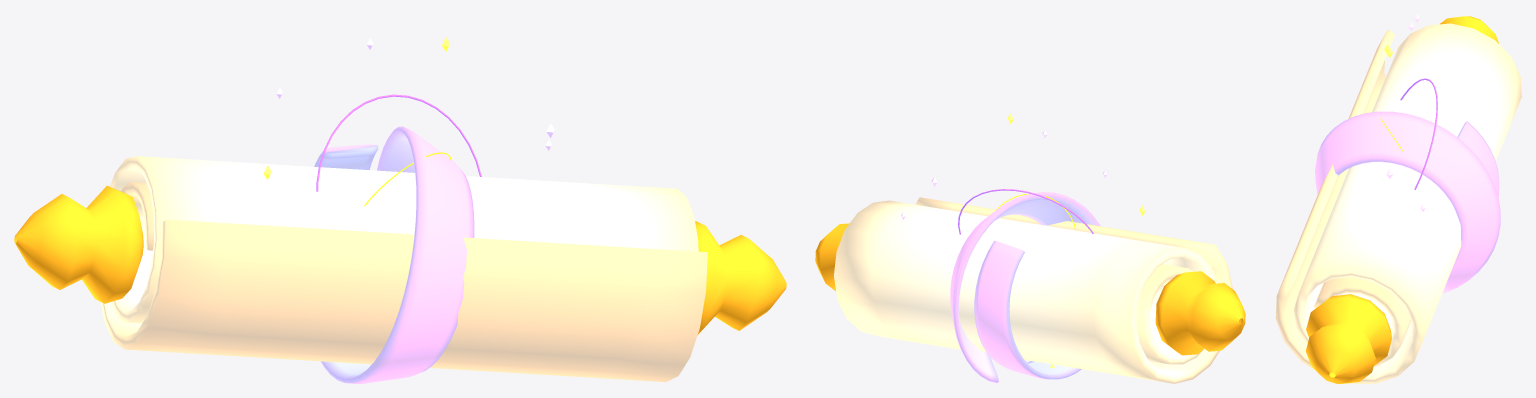
Rendered from papyrus_splash_morph.glb.
3 renders of one model, left to right at view 1: azimuth 30°, elevation 25°; view 2: azimuth 150°, elevation 25°; view 3: azimuth 270°, elevation 25°, orthographic. The views are drawn at different scales.
Parts seen in each view (by area): view 1: Papyrus_Parchment_Scroll, Cosmic_P_Ribbon, Gold_Roller_Left, Gold_Roller_Right, AI_Neural_Ring_Outer; view 2: Papyrus_Parchment_Scroll, Cosmic_P_Ribbon, Gold_Roller_Left, Gold_Roller_Right, AI_Neural_Ring_Outer; view 3: Papyrus_Parchment_Scroll, Cosmic_P_Ribbon, Gold_Roller_Right, Gold_Roller_Left, AI_Neural_Ring_Outer.
Part boxes in pixels (x1,y1,x2,y2): Papyrus_Parchment_Scroll: (100,156,707,382); Cosmic_P_Ribbon: (314,126,474,383); Gold_Roller_Left: (14,185,143,303); Gold_Roller_Right: (695,221,786,335); AI_Neural_Ring_Outer: (316,94,481,191); Papyrus_Parchment_Scroll: (834,197,1232,383); Cosmic_P_Ribbon: (950,192,1100,383); Gold_Roller_Left: (1155,271,1245,355); Gold_Roller_Right: (815,223,849,290); AI_Neural_Ring_Outer: (958,189,1093,234); Papyrus_Parchment_Scroll: (1275,23,1521,383); Cosmic_P_Ribbon: (1315,111,1500,292); Gold_Roller_Right: (1306,294,1391,383); Gold_Roller_Left: (1440,16,1498,43); AI_Neural_Ring_Outer: (1400,78,1437,189).
Size of the model in its own units: 1.78 by 1.01 by 0.7599.
